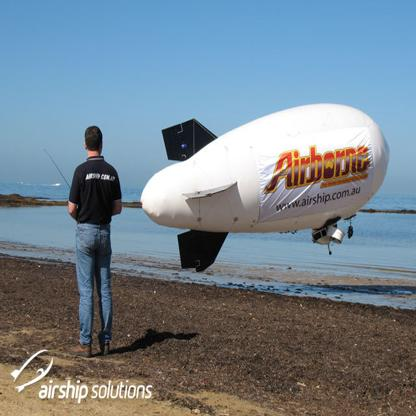Airship: (139, 102, 393, 275)
